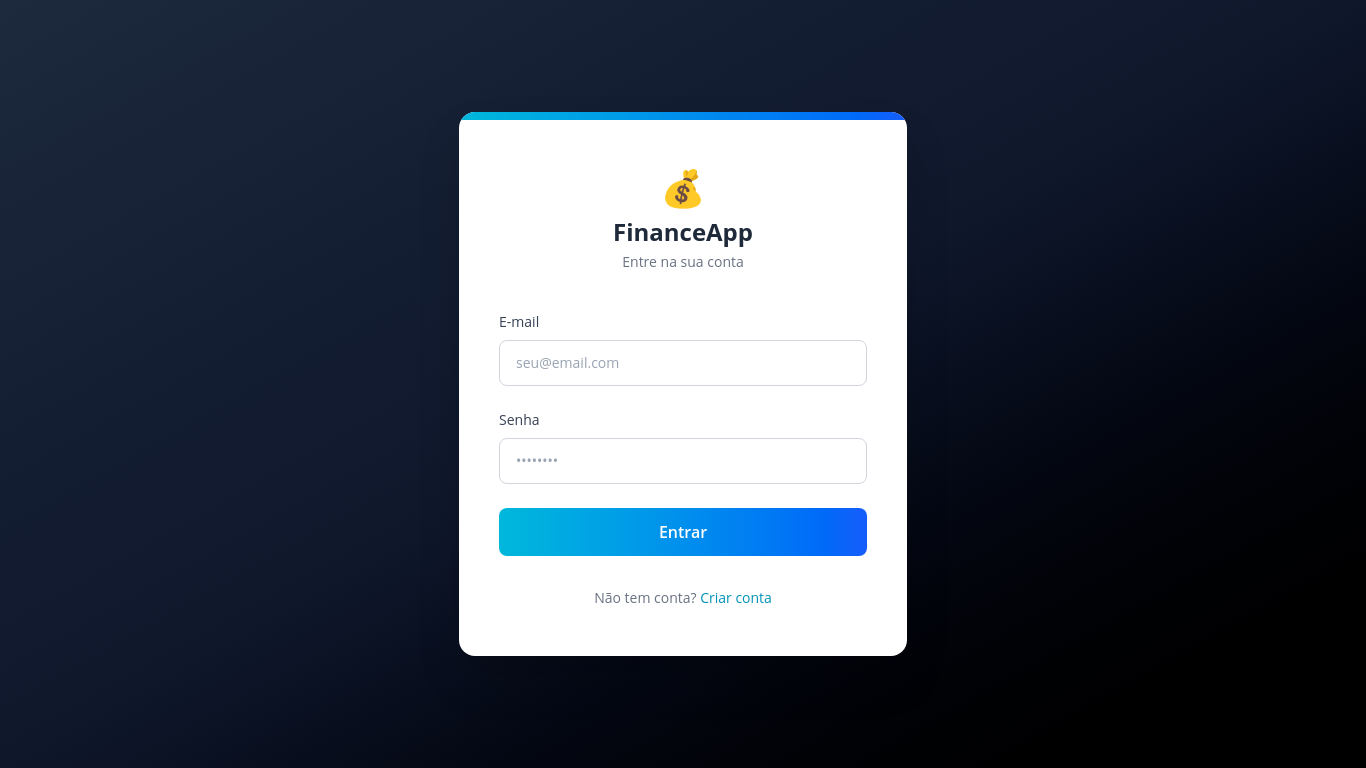
Test case: LoginPage – integração › disables button when loading
Step 1. Type "a@b.com" into the field with placeholder "seu@email.com" → (683, 363), box [499,340,867,386]
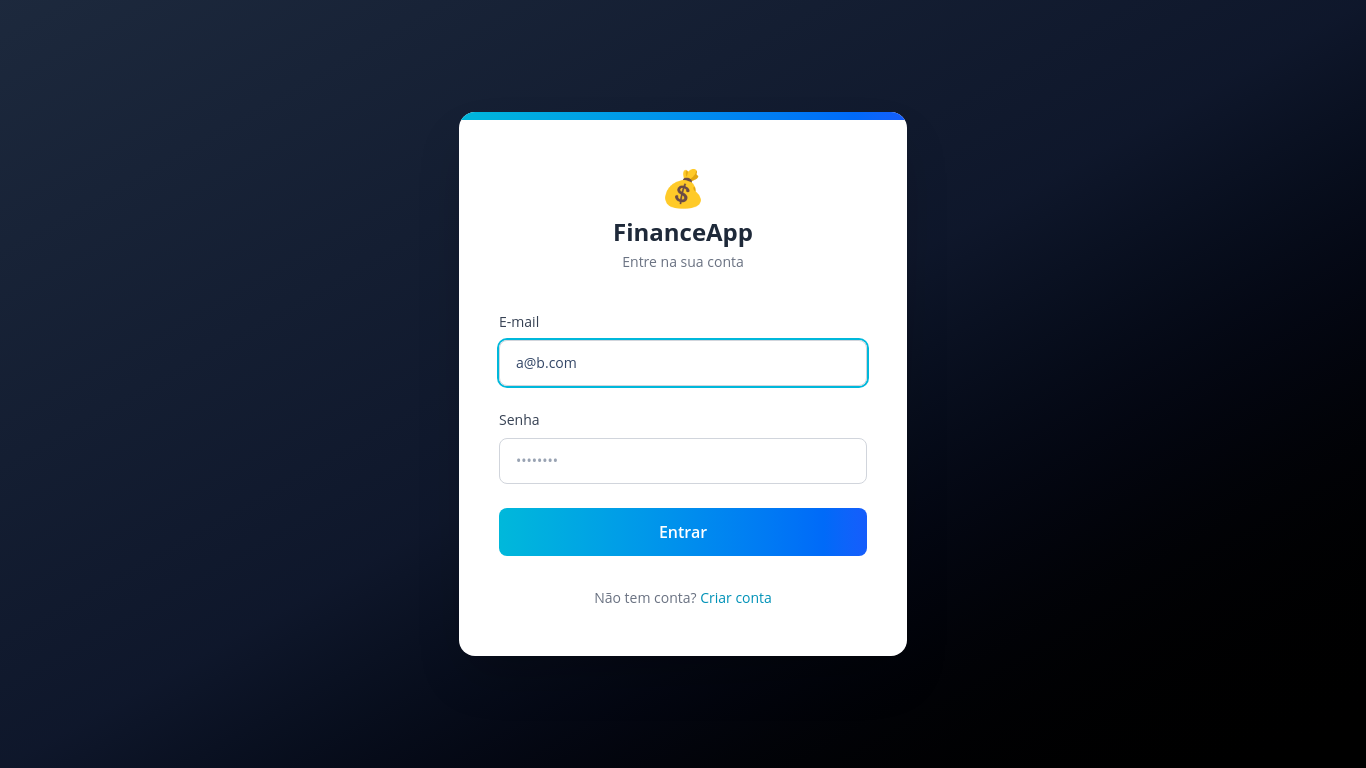
Step 2. Type "pass" into the password field with placeholder "••••••••" → (683, 461), box [499,438,867,484]
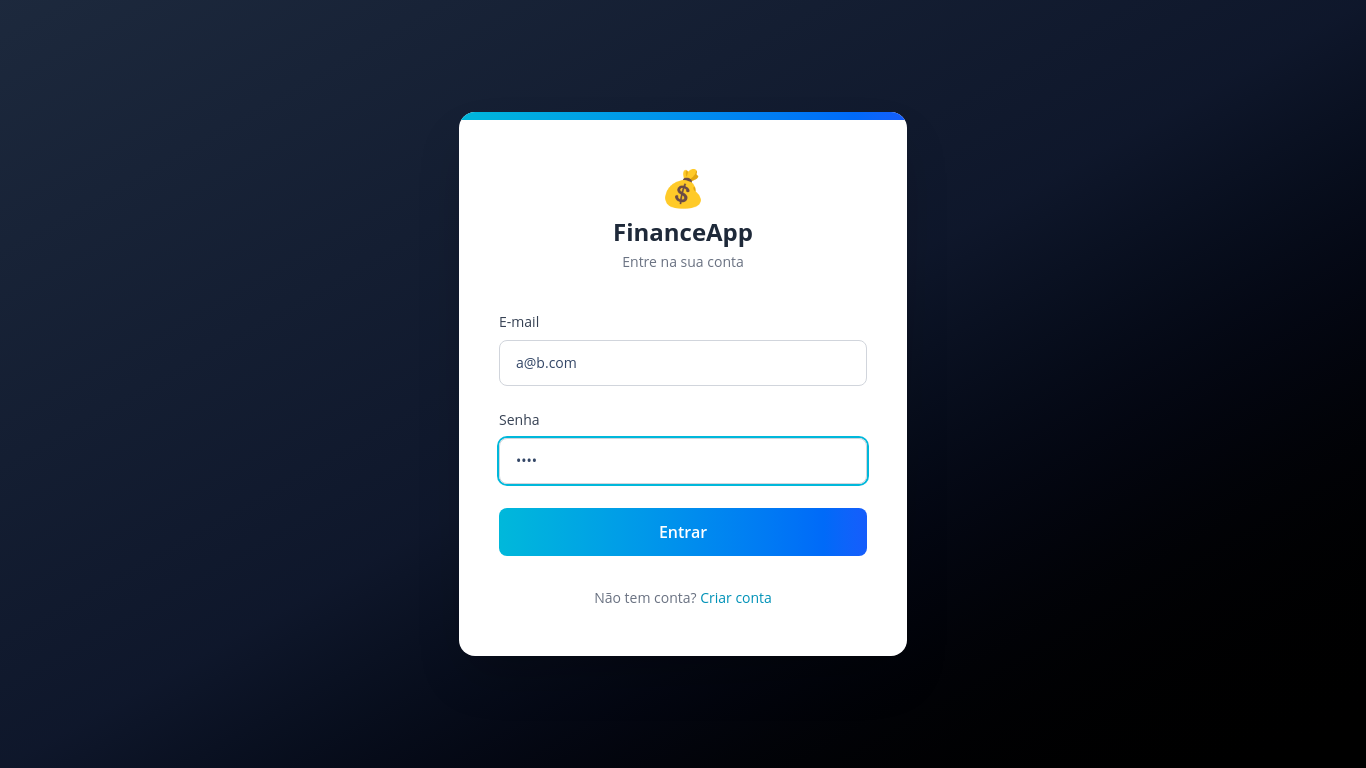
Step 3. Click the button "Entrar" → (683, 532), box [499,508,867,556]
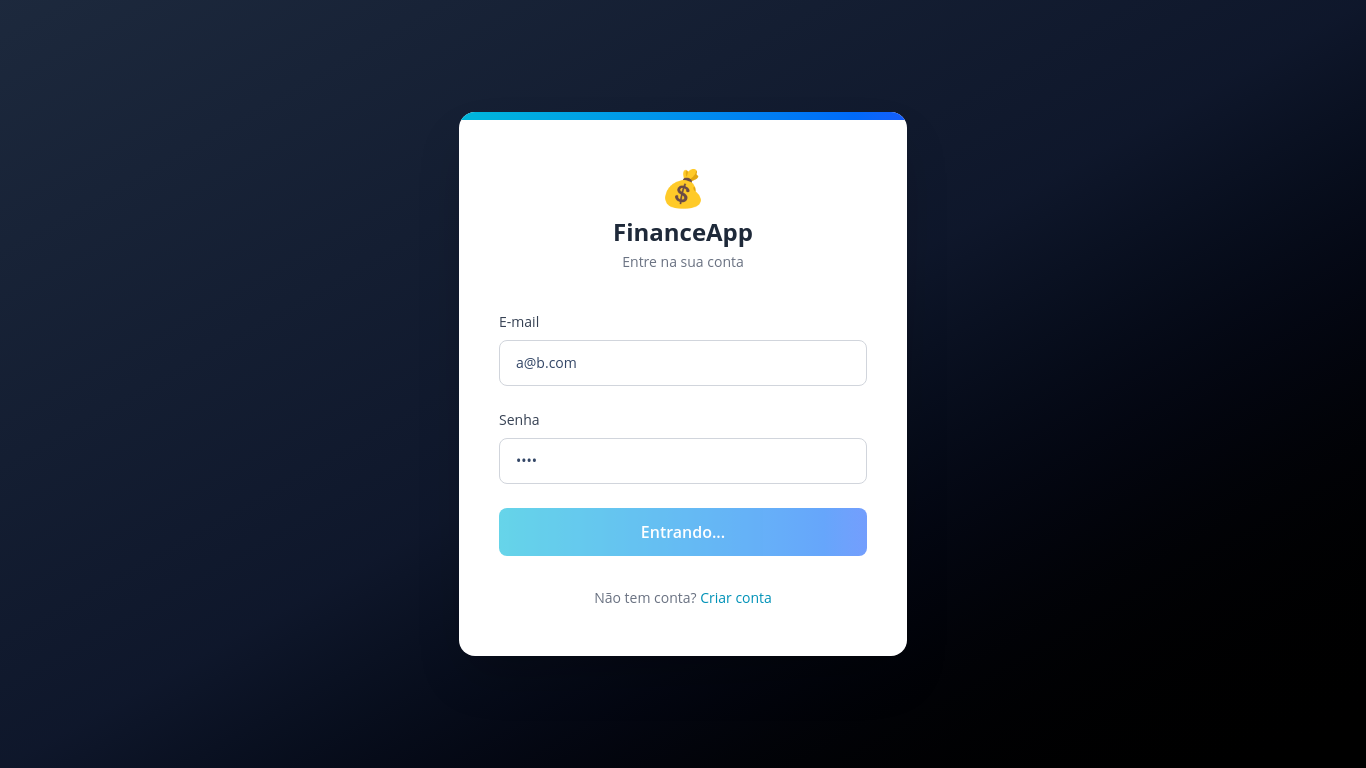
Result: the button "Entrando..." is disabled at [499,508,867,556]
